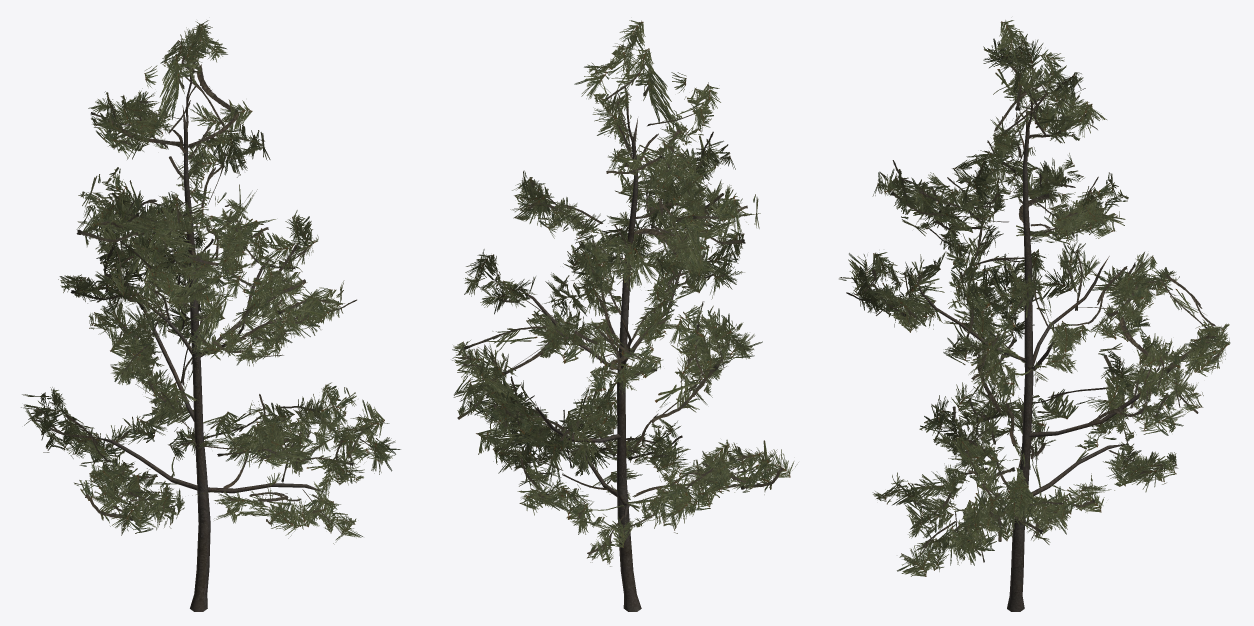
3 views of the same model, side by side, from view 1: azimuth 30°, elevation 25°; view 2: azimuth 150°, elevation 25°; view 3: azimuth 270°, elevation 25° (orthographic).
Visible parts, largest first — view 1: pine_sapling_small__c_lod0; view 2: pine_sapling_small__c_lod0; view 3: pine_sapling_small__c_lod0.
Part boxes in pixels (bbox=[...]): pine_sapling_small__c_lod0: bbox=[21, 20, 400, 611]; pine_sapling_small__c_lod0: bbox=[452, 20, 798, 611]; pine_sapling_small__c_lod0: bbox=[839, 20, 1230, 611].
Size of the model in its own units: 0.5345 by 0.9635 by 0.6043.
2 materials, 2 textured.
